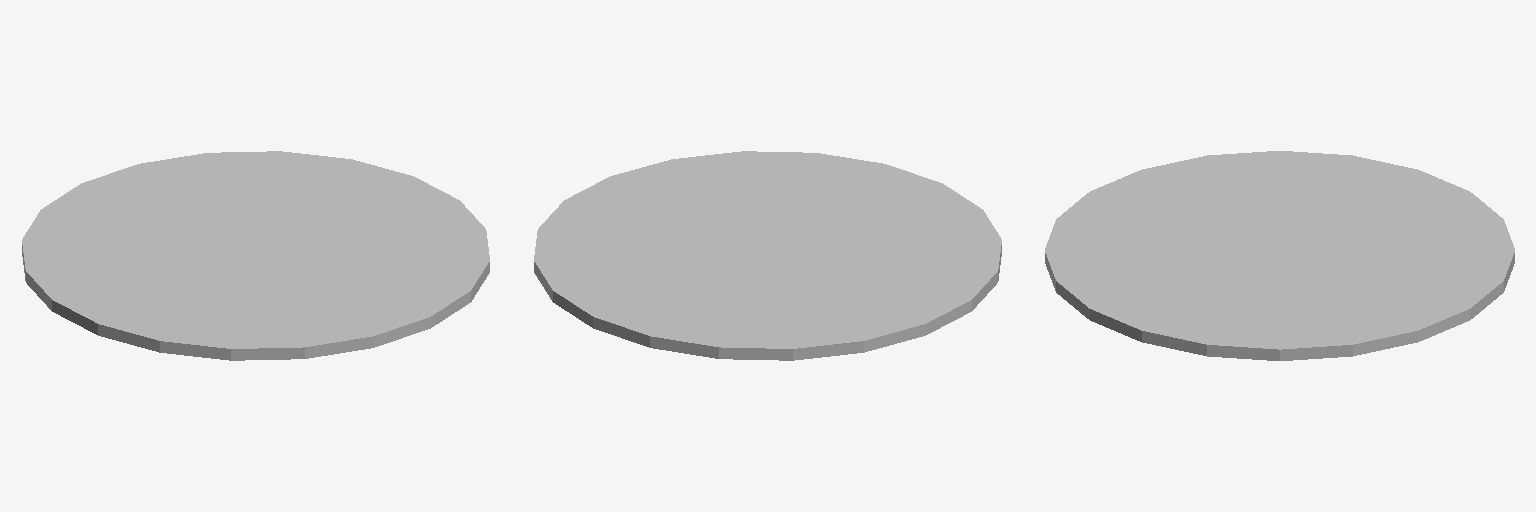
The model's file is sideTableShelf_2.obj.
3 views of the same model, side by side, from view 1: azimuth 30°, elevation 25°; view 2: azimuth 150°, elevation 25°; view 3: azimuth 270°, elevation 25° (orthographic).
Bounding box in the file's own units: 7.88 × 0.2164 × 7.88.